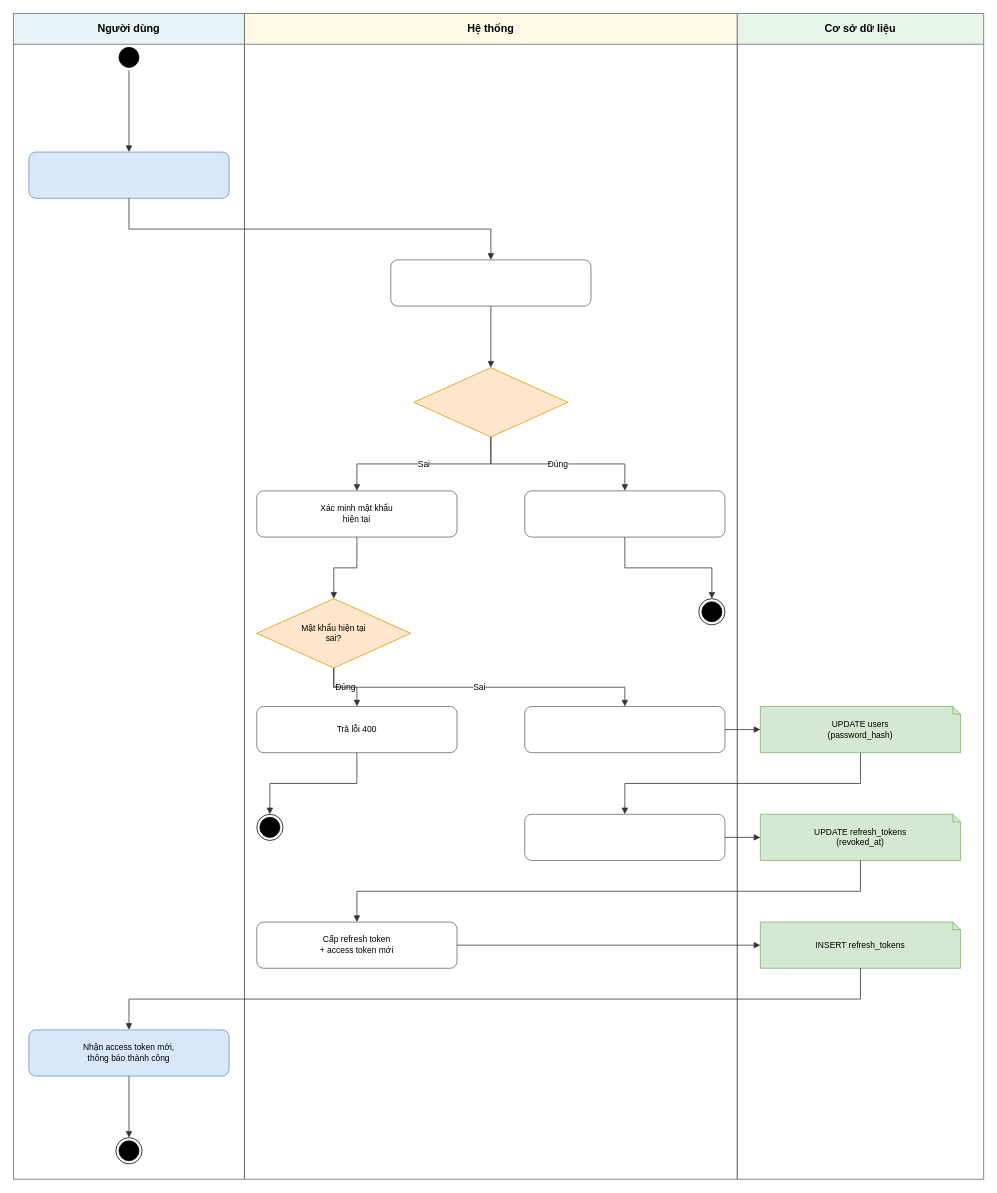
Some shapes in this 997 by 1193 pixel diagram are drawn without their labels. Here are the shapes that lost their labels. From the top down, the centre of each, then its label:
At (x=128, y=174): "Nhập mật khẩu hiện tại + mật khẩu mới".
At (x=490, y=282): "Kiểm độ dài mật khẩu mới".
At (x=490, y=402): "Mật khẩu mới < 8 ký tự?".
At (x=624, y=513): "Trả lỗi 422".
At (x=624, y=729): "Cập nhật mật khẩu mới".
At (x=624, y=837): "Thu hồi mọi phiên đăng nhập cũ".
